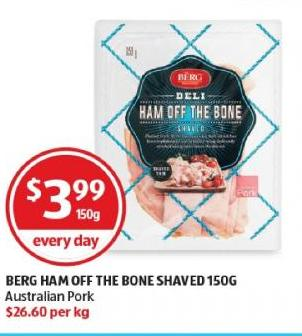description_block: (1, 270, 246, 303)
price_main: (10, 153, 121, 237)
product_image_block: (91, 15, 292, 259)
unit_price_block: (2, 299, 101, 325)
